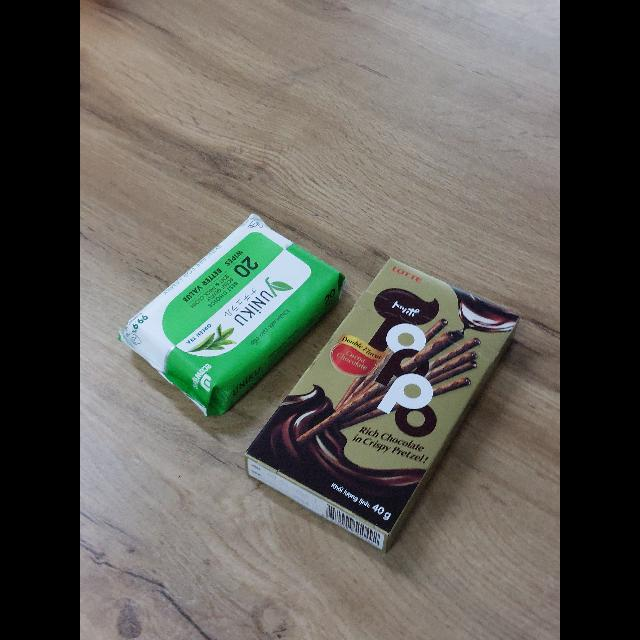banh_toppo_socola: (246, 259, 519, 550)
khan_giay: (119, 214, 343, 415)
